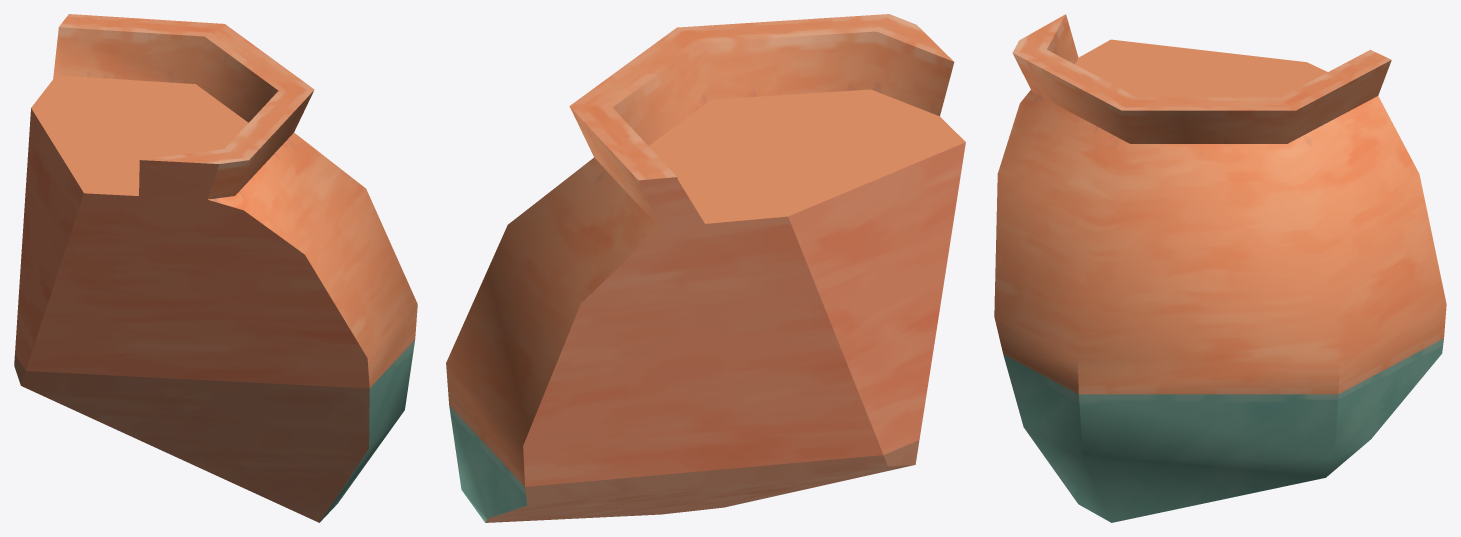
File: pot_round_s00.fbx
3 renders of one model, left to right at view 1: azimuth 30°, elevation 25°; view 2: azimuth 150°, elevation 25°; view 3: azimuth 270°, elevation 25°, orthographic. The views are drawn at different scales.
Visible parts, largest first — view 1: pot_round_s00; view 2: pot_round_s00; view 3: pot_round_s00.
Part boxes in pixels (x1=…): pot_round_s00: x1=14, y1=14, x2=417, y2=522; pot_round_s00: x1=446, y1=14, x2=965, y2=522; pot_round_s00: x1=994, y1=14, x2=1446, y2=522.
Size of the model in its own units: 1.46 by 1.77 by 1.8.
